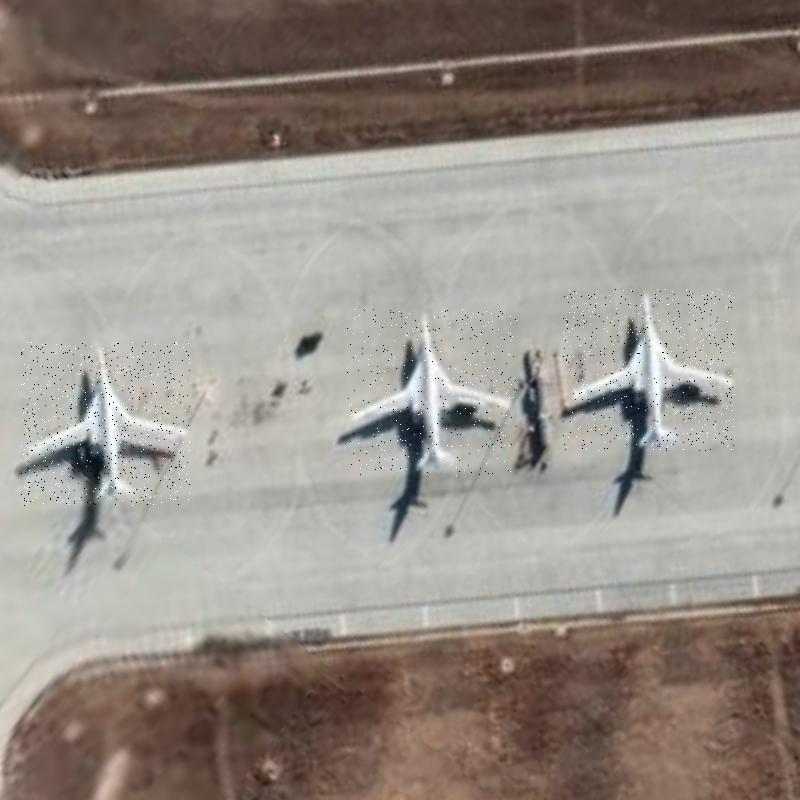A6: (347, 308, 517, 476), (563, 289, 735, 451), (21, 342, 190, 506)
